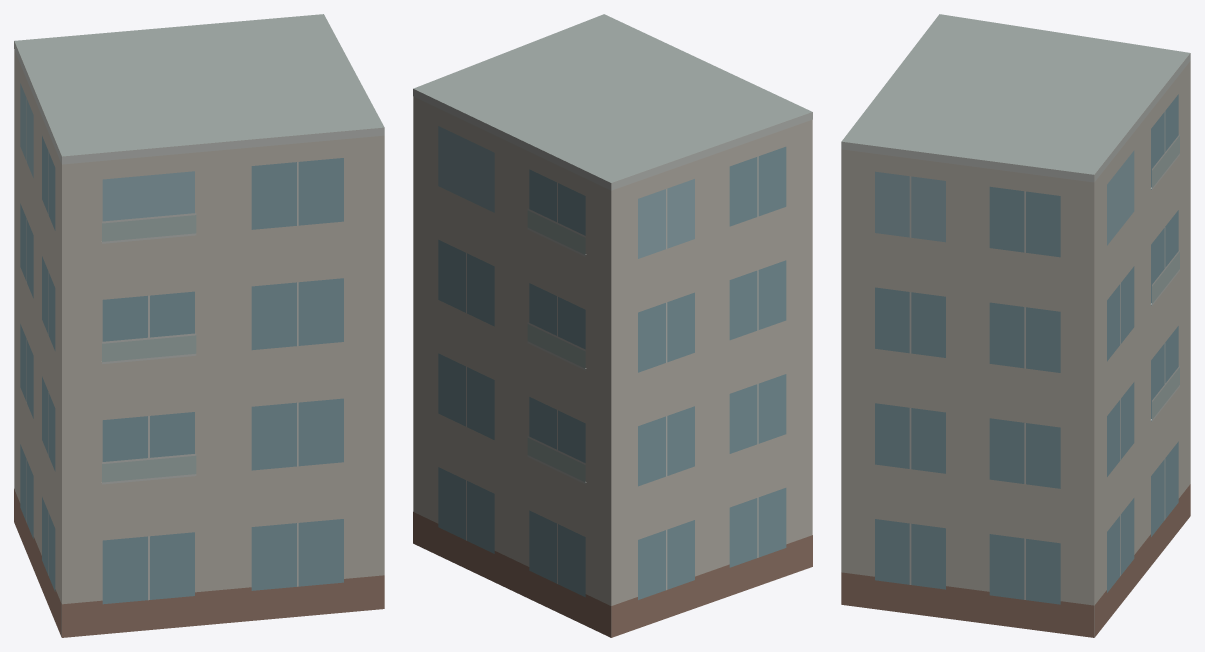
File: survey-upis-32994365.glb
The picture shows the model from 3 angles, left to right: view 1: azimuth 30°, elevation 25°; view 2: azimuth 150°, elevation 25°; view 3: azimuth 270°, elevation 25°; orthographic projection. The views are drawn at different scales.
Visible parts, largest first — view 1: survey-upis-32994365.tmp; view 2: survey-upis-32994365.tmp; view 3: survey-upis-32994365.tmp.
Boxes of the visible parts, x1,y1,x2,y2 form: survey-upis-32994365.tmp: [14, 14, 384, 637]; survey-upis-32994365.tmp: [413, 14, 812, 637]; survey-upis-32994365.tmp: [841, 14, 1190, 637].
Bounding box in the file's own units: 10.88 × 14.6 × 9.99.
